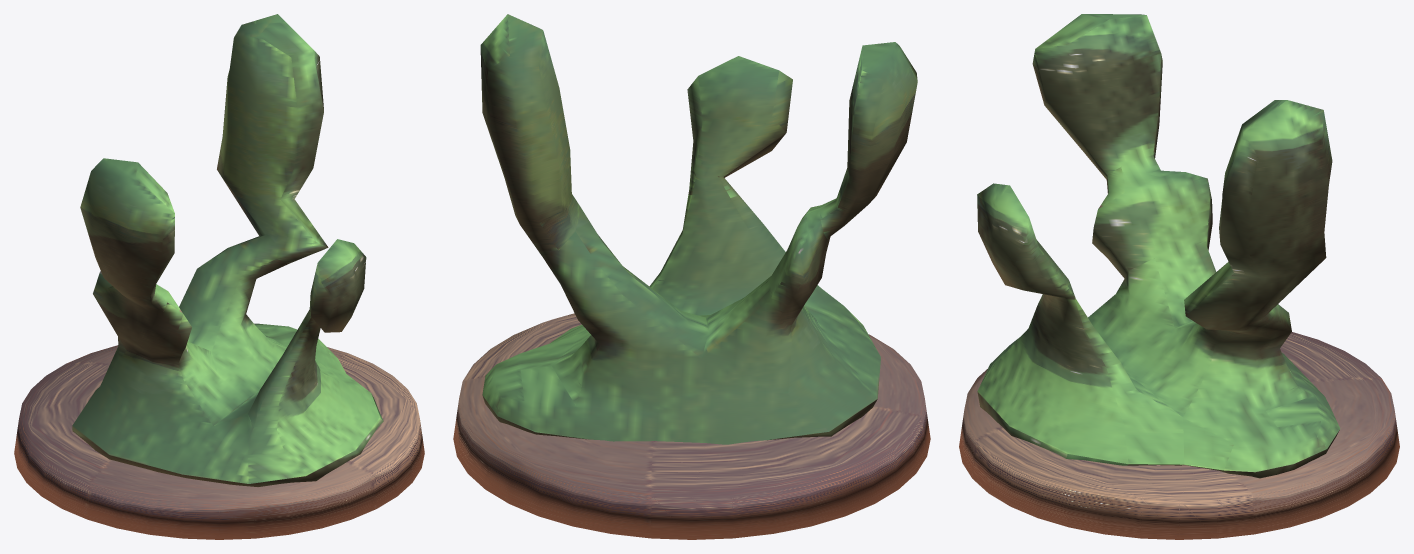
Rendered from OpuntiaCactus(2).glb.
3 renders of one model, left to right at view 1: azimuth 30°, elevation 25°; view 2: azimuth 150°, elevation 25°; view 3: azimuth 270°, elevation 25°, orthographic. The views are drawn at different scales.
Visible parts, largest first — view 1: 仙人掌gltf; view 2: 仙人掌gltf; view 3: 仙人掌gltf.
Part boxes in pixels (x1=…): 仙人掌gltf: x1=14, y1=14, x2=424, y2=539; 仙人掌gltf: x1=453, y1=14, x2=930, y2=539; 仙人掌gltf: x1=959, y1=14, x2=1399, y2=539.
Size of what is drawn, in the model's own units: 0.7142 by 0.7214 by 0.7142.
1 material, 1 textured.
